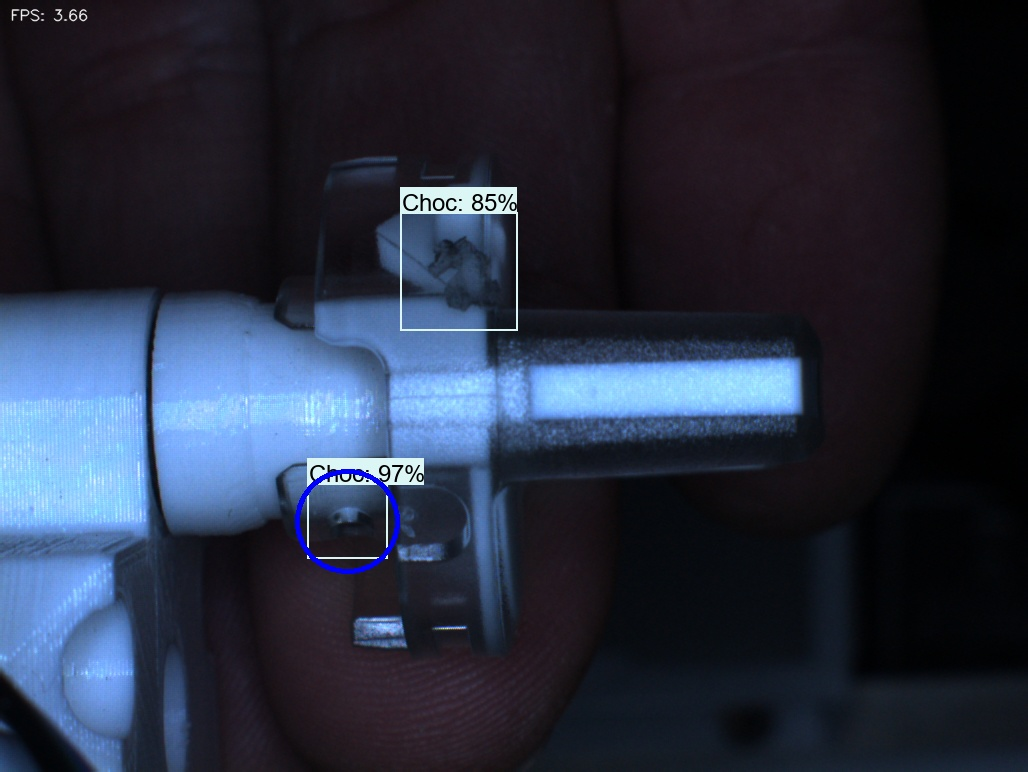DentOk: (350, 200, 420, 288)
